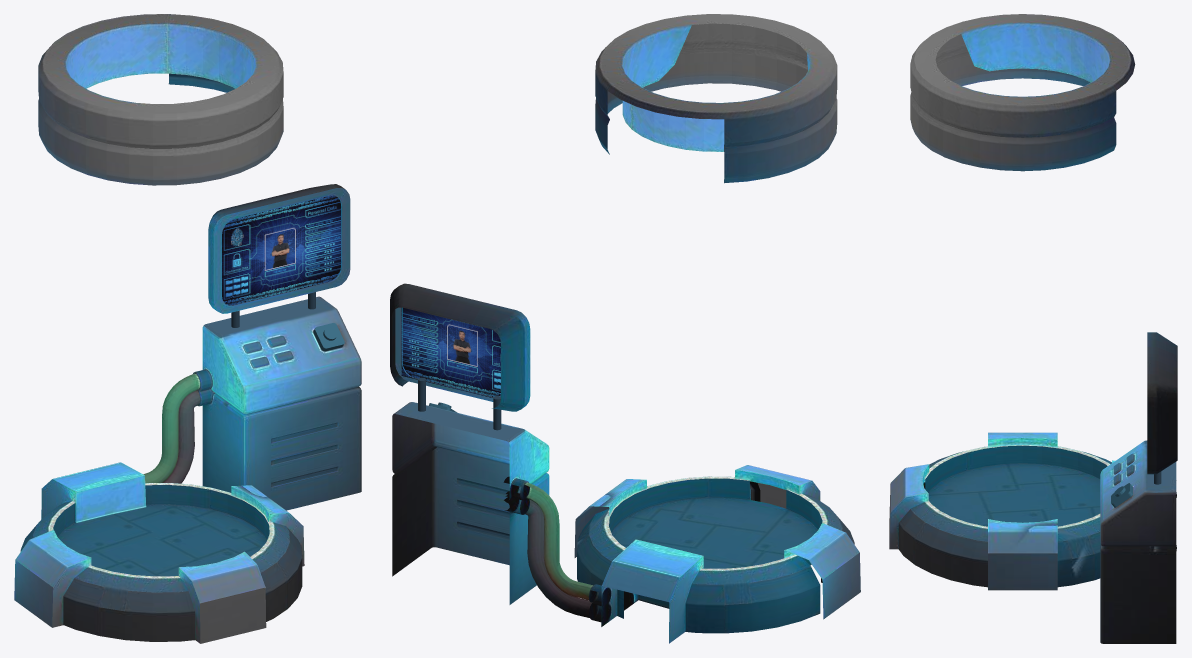
The model's file is lab.glb.
The picture shows the model from 3 angles, left to right: view 1: azimuth 30°, elevation 25°; view 2: azimuth 150°, elevation 25°; view 3: azimuth 270°, elevation 25°; orthographic projection. The views are drawn at different scales.
Visible parts, largest first — view 1: merged-scene, Plane, pc-button; view 2: merged-scene, Plane; view 3: merged-scene.
Part boxes in pixels (bbox=[...]): merged-scene: bbox=[14, 14, 361, 643]; Plane: bbox=[222, 195, 340, 305]; pc-button: bbox=[313, 323, 344, 351]; merged-scene: bbox=[390, 14, 860, 643]; Plane: bbox=[401, 308, 500, 397]; merged-scene: bbox=[889, 14, 1177, 643].
Size of the model in its own units: 5.62 by 7.23 by 3.98.
4 materials, 2 textured.
